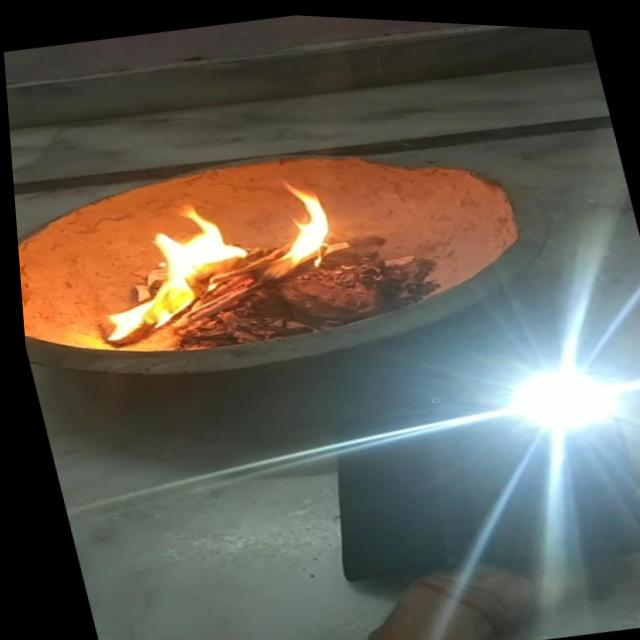fire: (71, 154, 364, 349)
